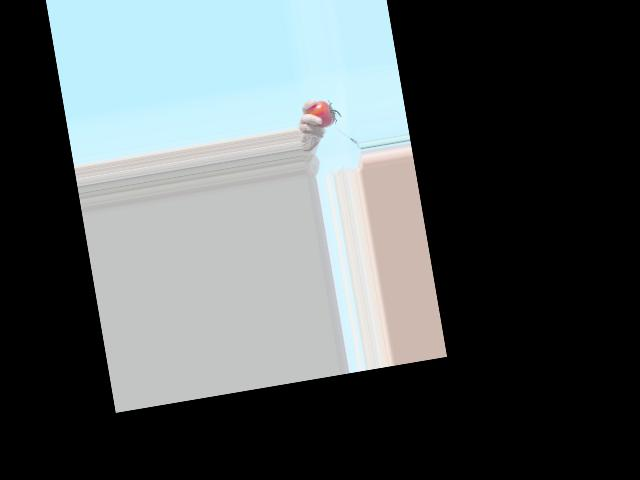tomato: (305, 98, 336, 129)
